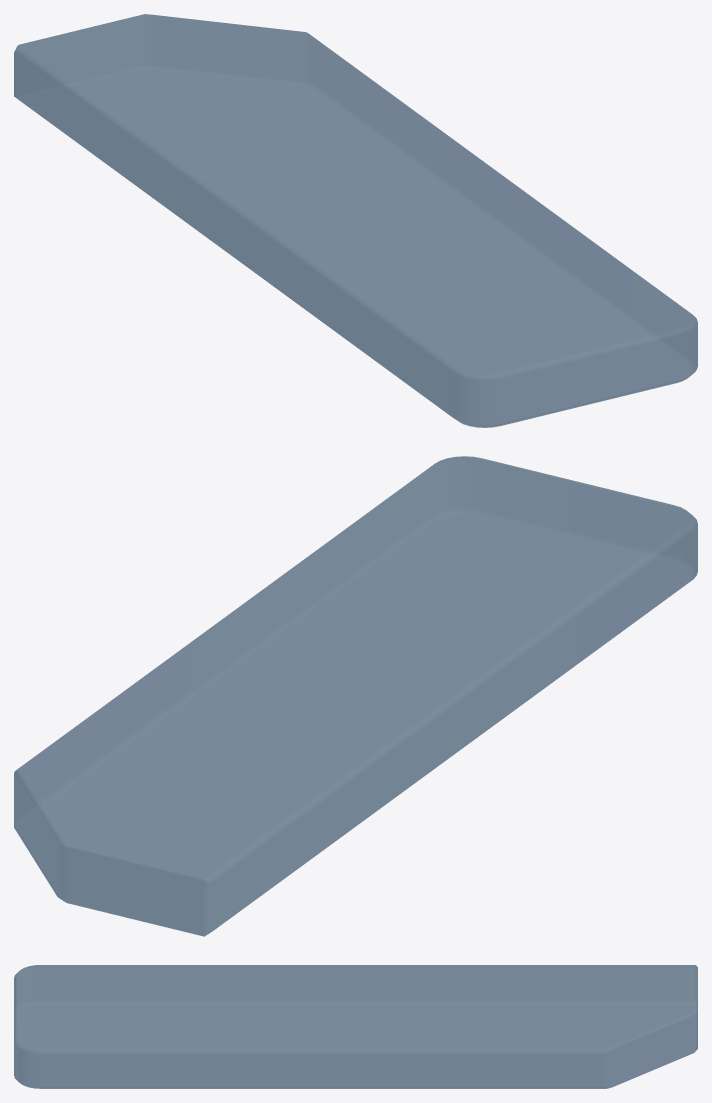
File: Side_Glass_01.fbx
The picture shows the model from 3 angles, top to bottom: view 1: azimuth 30°, elevation 25°; view 2: azimuth 150°, elevation 25°; view 3: azimuth 270°, elevation 25°; orthographic projection. The views are drawn at different scales.
Parts seen in each view (by area): view 1: Side_Glass_01; view 2: Side_Glass_01; view 3: Side_Glass_01.
Part boxes in pixels (box(x1,y1,x2,y2)): Side_Glass_01: box(14, 14, 697, 427); Side_Glass_01: box(14, 456, 697, 936); Side_Glass_01: box(14, 965, 697, 1088).
Bounding box in the file's own units: 0.4605 × 0.0998 × 1.52.
